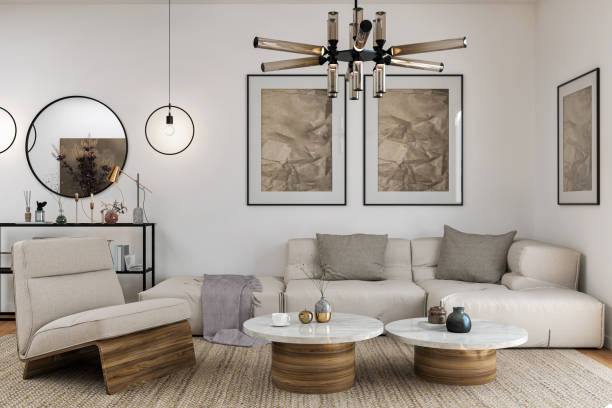chair: (10, 235, 198, 396)
sofa: (135, 224, 607, 351)
table: (239, 310, 383, 392), (385, 314, 528, 389)
wall art: (360, 71, 465, 208), (244, 71, 348, 209), (554, 64, 602, 208)
